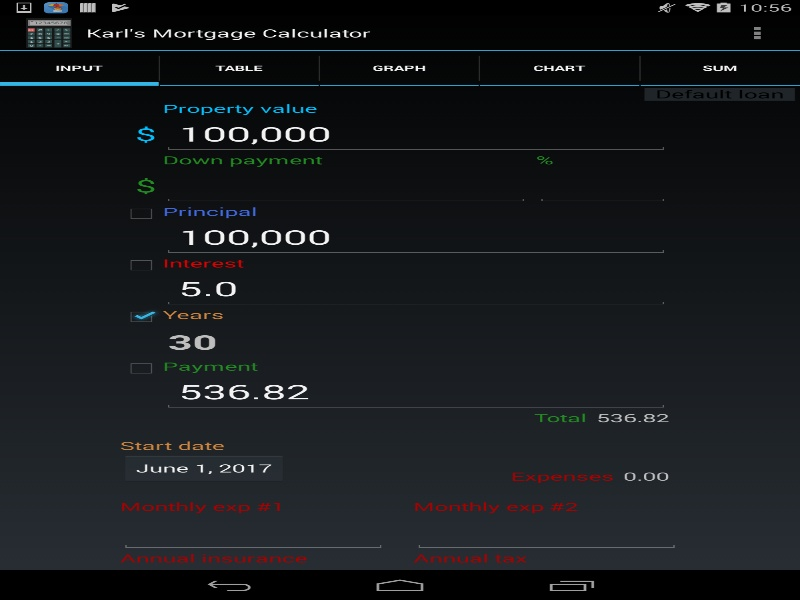Button: (120, 453, 288, 483), (639, 79, 800, 109), (714, 15, 800, 50)
Input: (162, 115, 669, 152), (162, 373, 669, 410), (162, 219, 669, 255), (162, 270, 669, 306), (162, 167, 529, 203), (413, 514, 680, 550), (120, 514, 386, 550), (536, 167, 669, 203)
